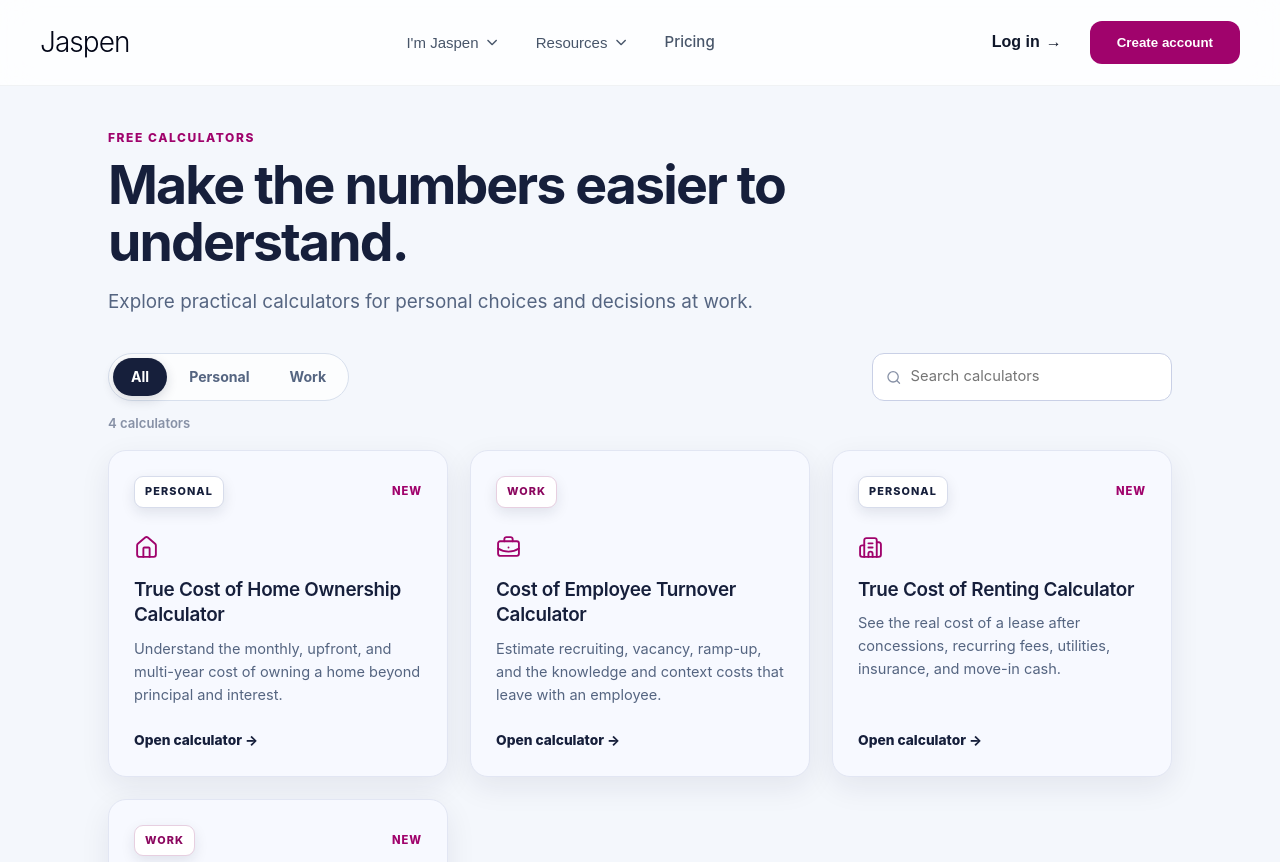
CalculatorsHubPage › filters by audience and search, then clears an empty state
Check: the text "4 calculators" is shown, box [108,416,190,432]
Click the button "Work": (308, 377) [272,358,344,396]
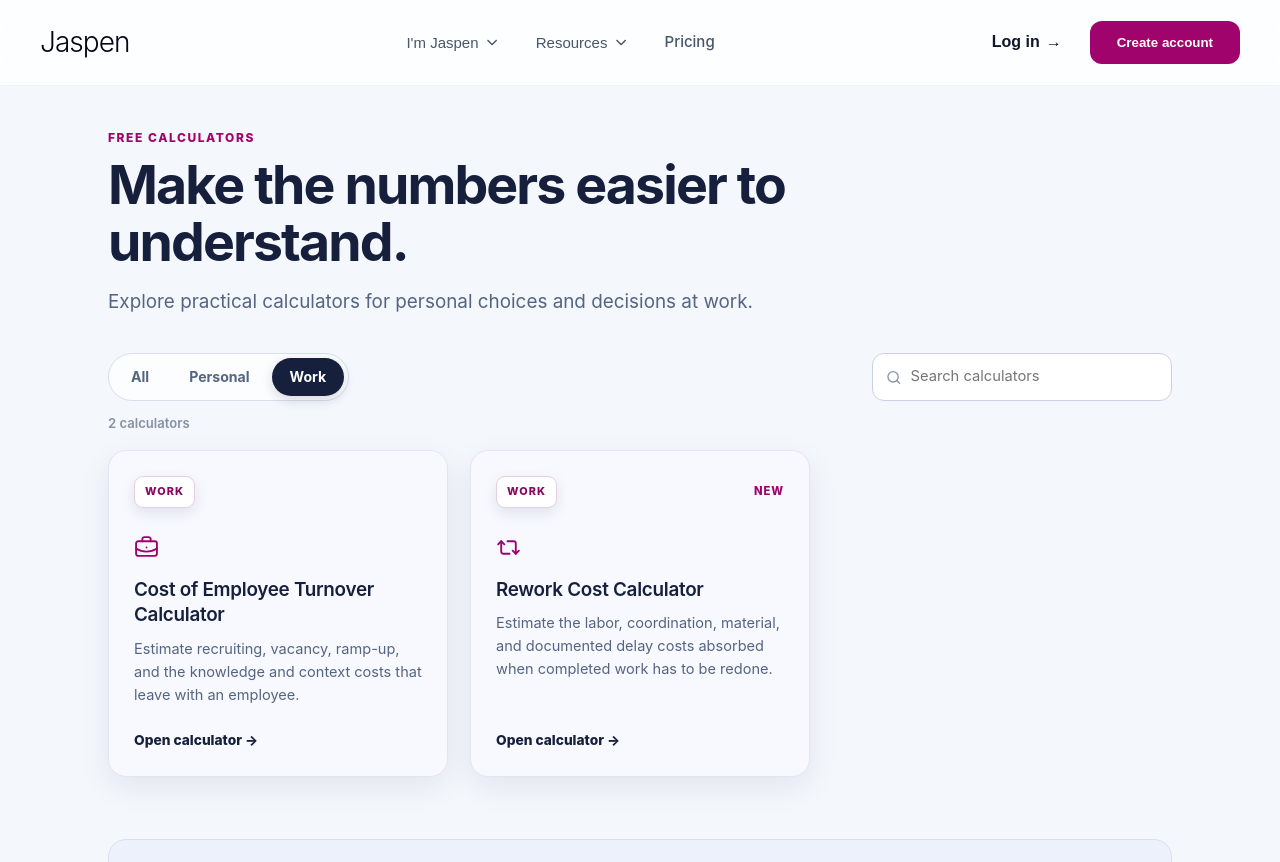
Check: the text "2 calculators" is shown, box [108,416,190,432]
In the search field labelled "Search calculators": (1034, 377) [910,354,1158,400], type "mortgage"
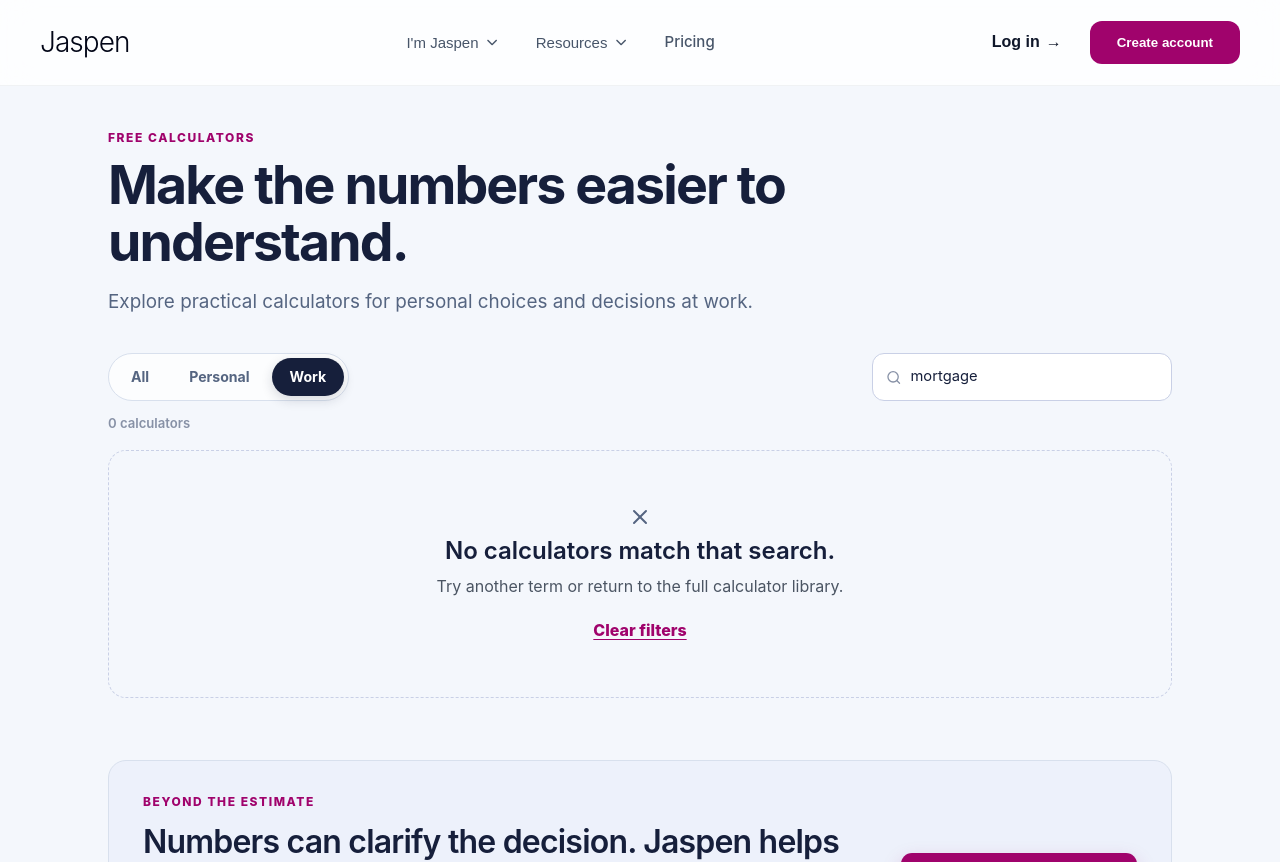
Check: the heading "No calculators match that search." is shown, box [445,538,835,566]
Click the button "Clear filters": (640, 631) [593,618,687,644]
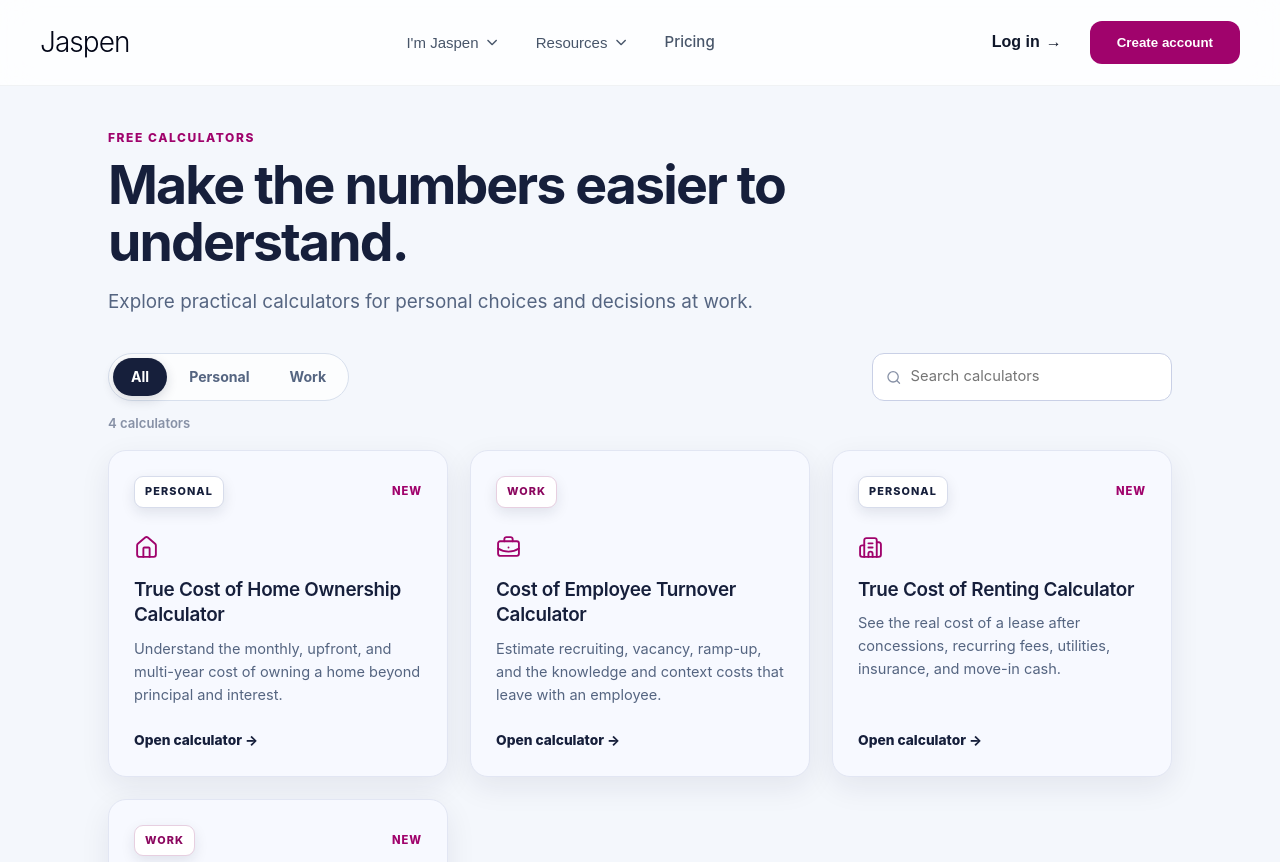
Check: the text "4 calculators" is shown, box [108,416,190,432]
